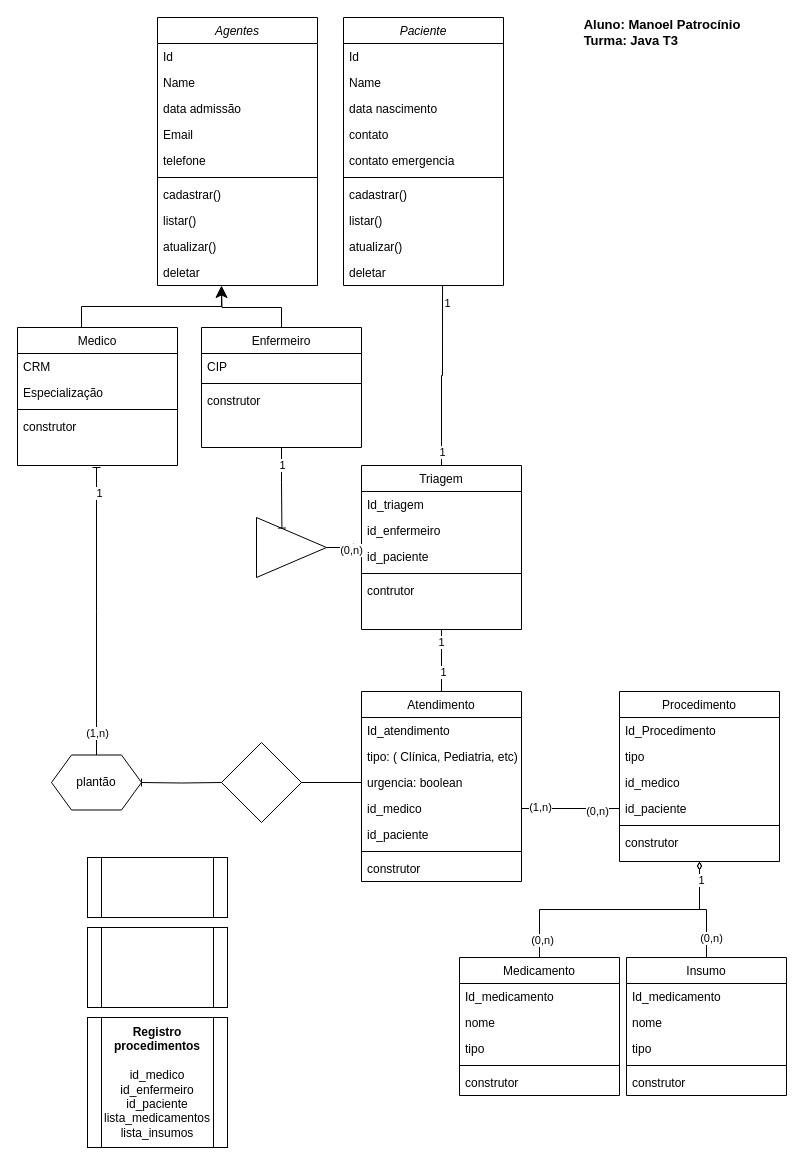
Image size: 804x1165. Some labels were removed from this diagram. Each missing label, with the centre of its shape:
"Realiza" belongs at point 291,547.
"Registro Atendimentos id_medico id_paciente" belongs at point 157,967.
"Registro Triagem id_enfermeiro id_paciente" belongs at point 157,887.
"se urgente" belongs at point 261,782.
